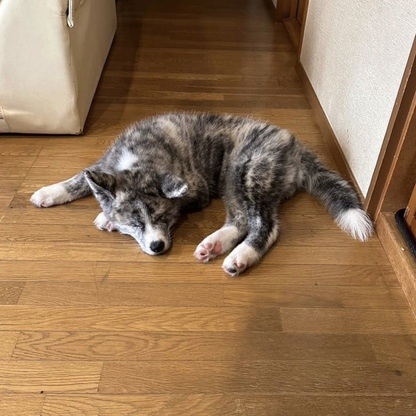akita: (26, 108, 379, 284)
